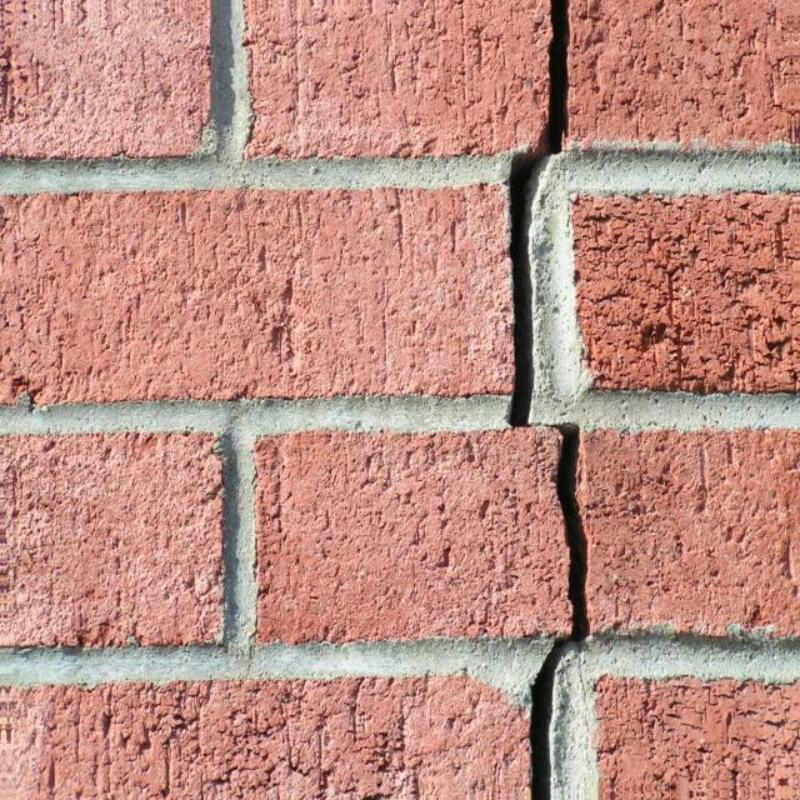pothole: (509, 0, 568, 426), (528, 423, 589, 799)
